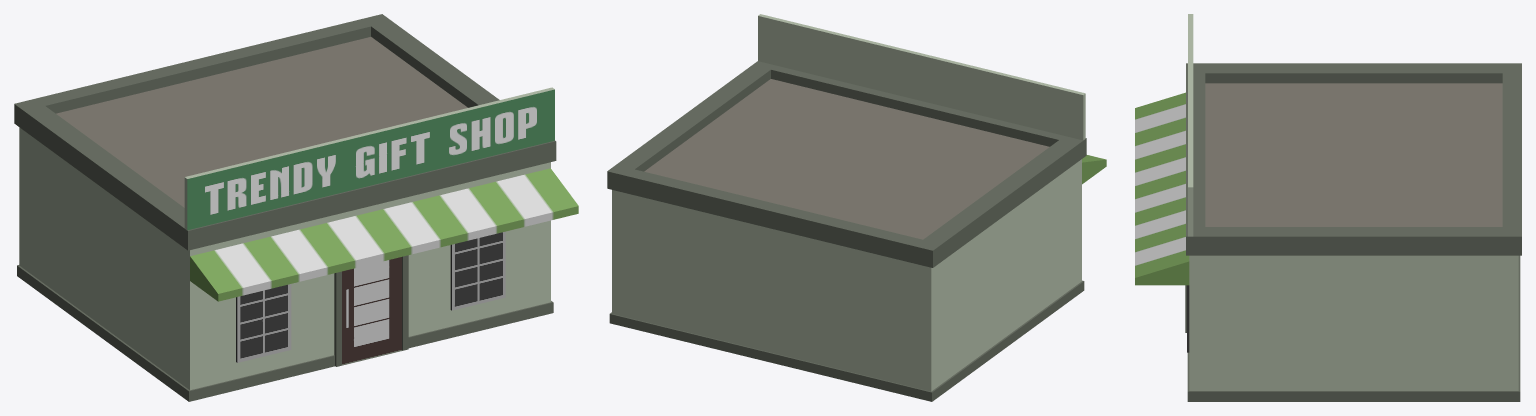
File: building-gift-shop.glb
The picture shows the model from 3 angles, left to right: view 1: azimuth 30°, elevation 25°; view 2: azimuth 150°, elevation 25°; view 3: azimuth 270°, elevation 25°; orthographic projection. The views are drawn at different scales.
Visible parts, largest first — view 1: model; view 2: model; view 3: model.
Part boxes in pixels (x1=…): model: x1=14, y1=14, x2=578, y2=401; model: x1=607, y1=14, x2=1106, y2=401; model: x1=1135, y1=14, x2=1521, y2=401.
Size of the model in its own units: 11.22 by 6.5 by 10.57.
1 material, 1 textured.
